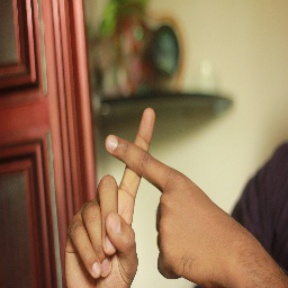X: (84, 97, 201, 229)
